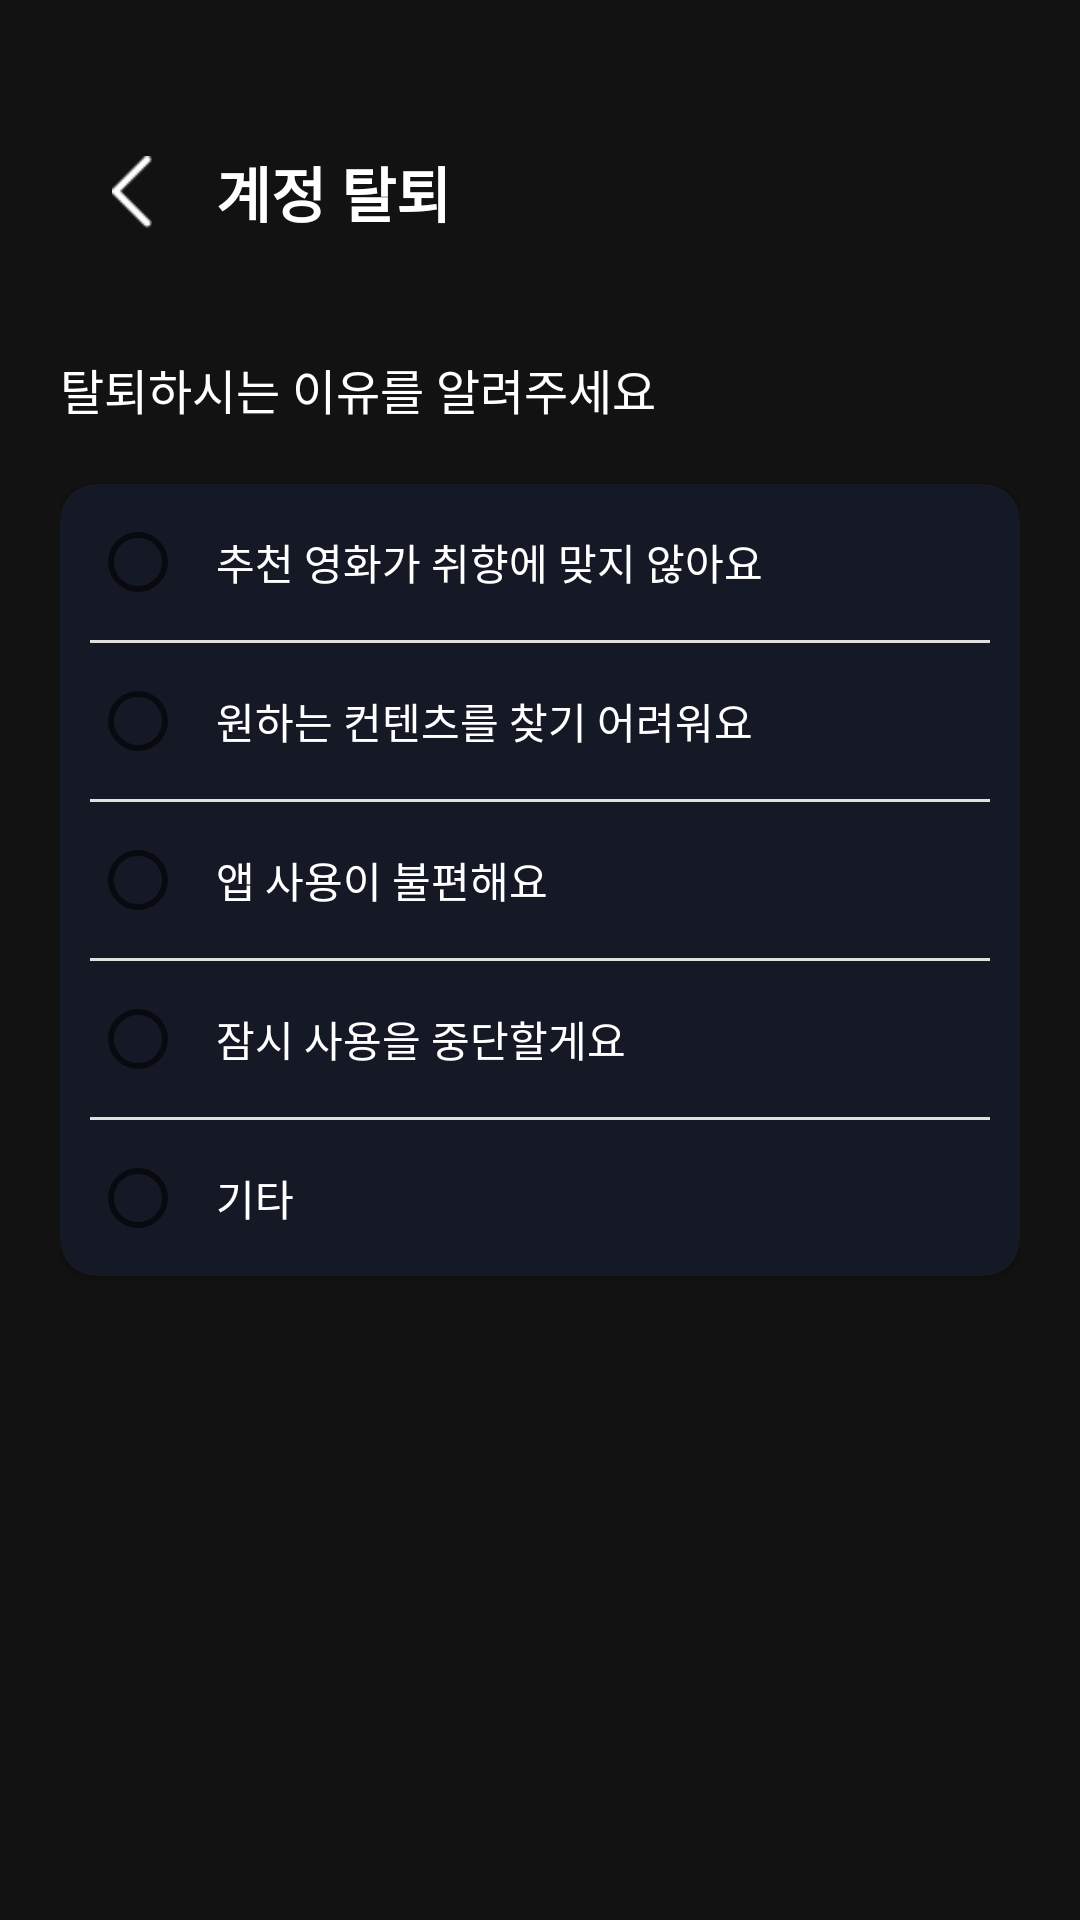

Where to tap for icons on this 1080px x 1920px app screen, as point (x, y):
뒤로 가기: point (132, 192)
